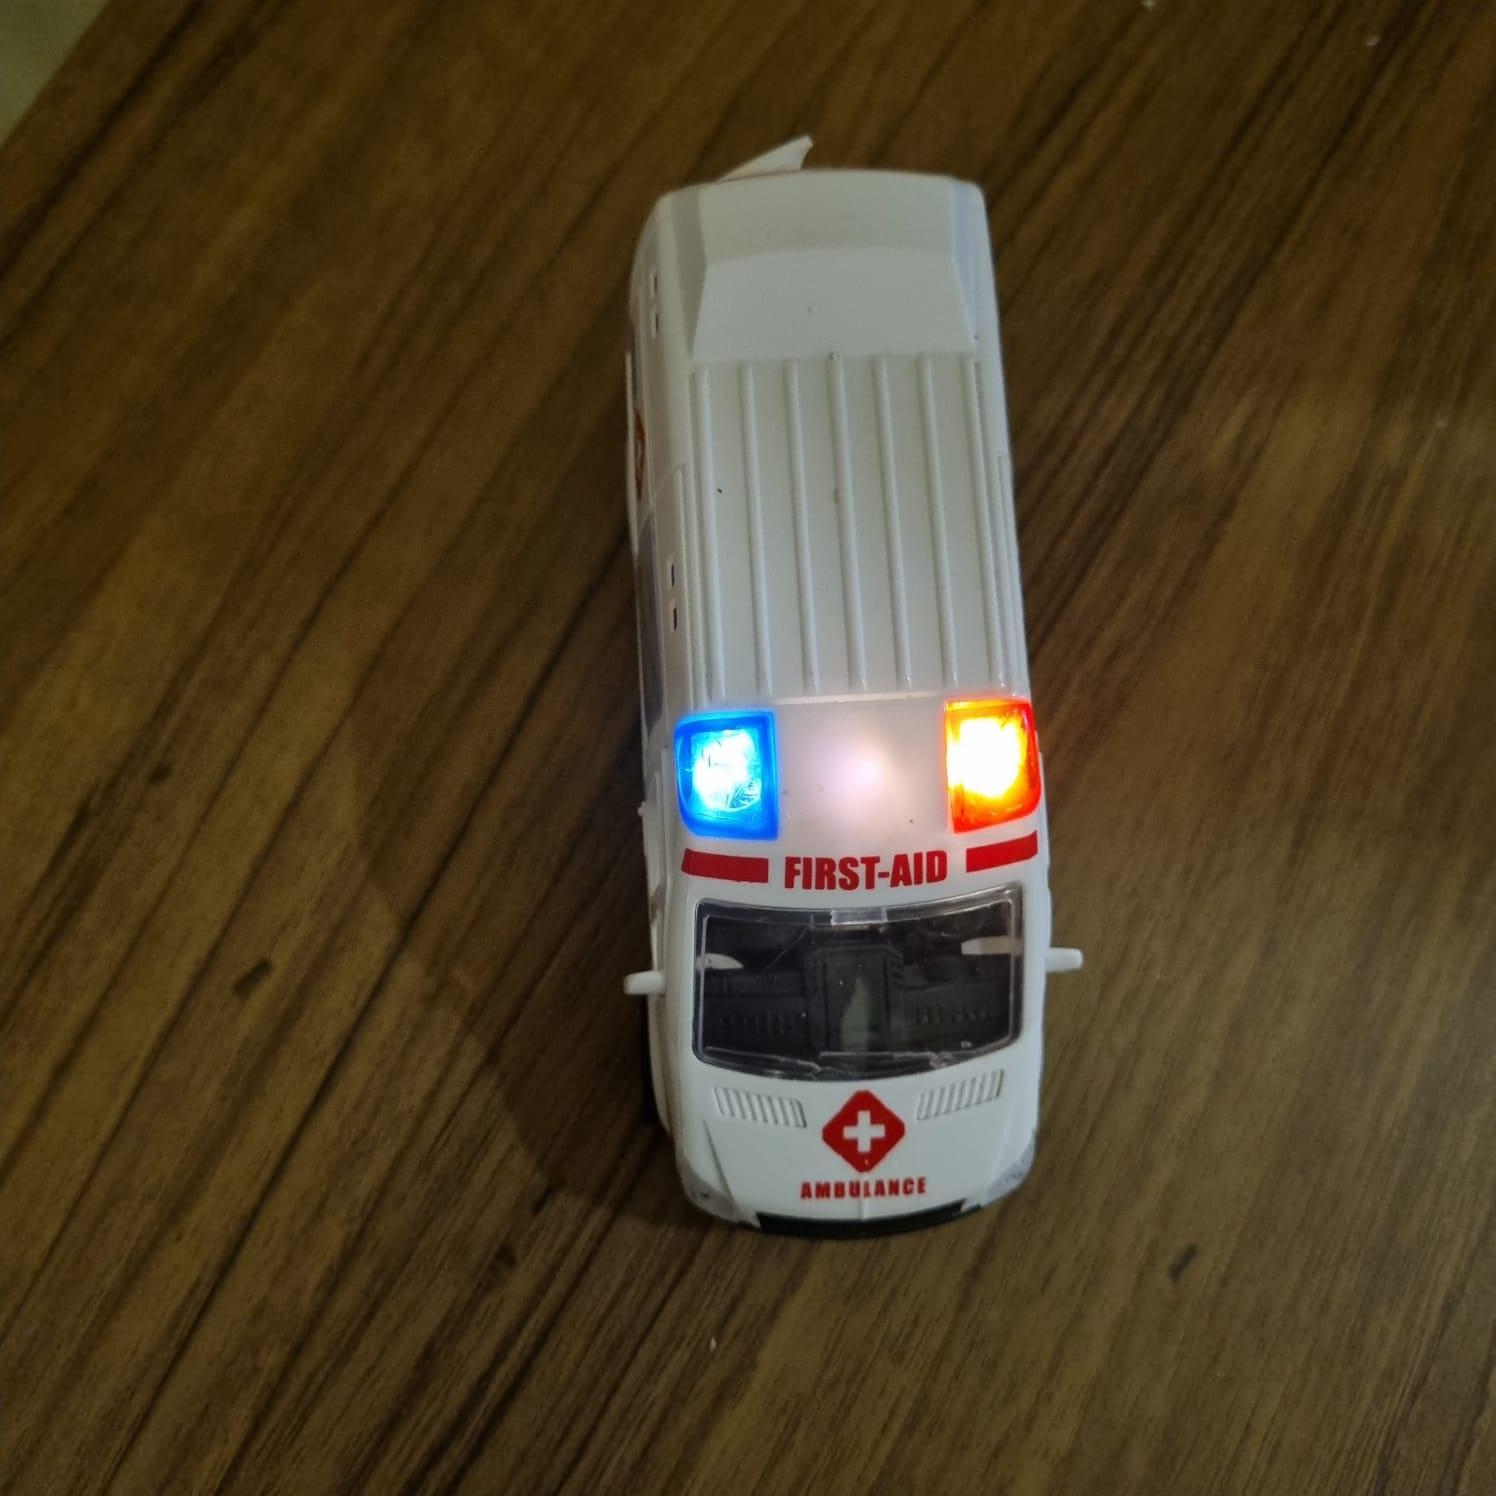ambulance_on: (623, 169, 1084, 1249)
